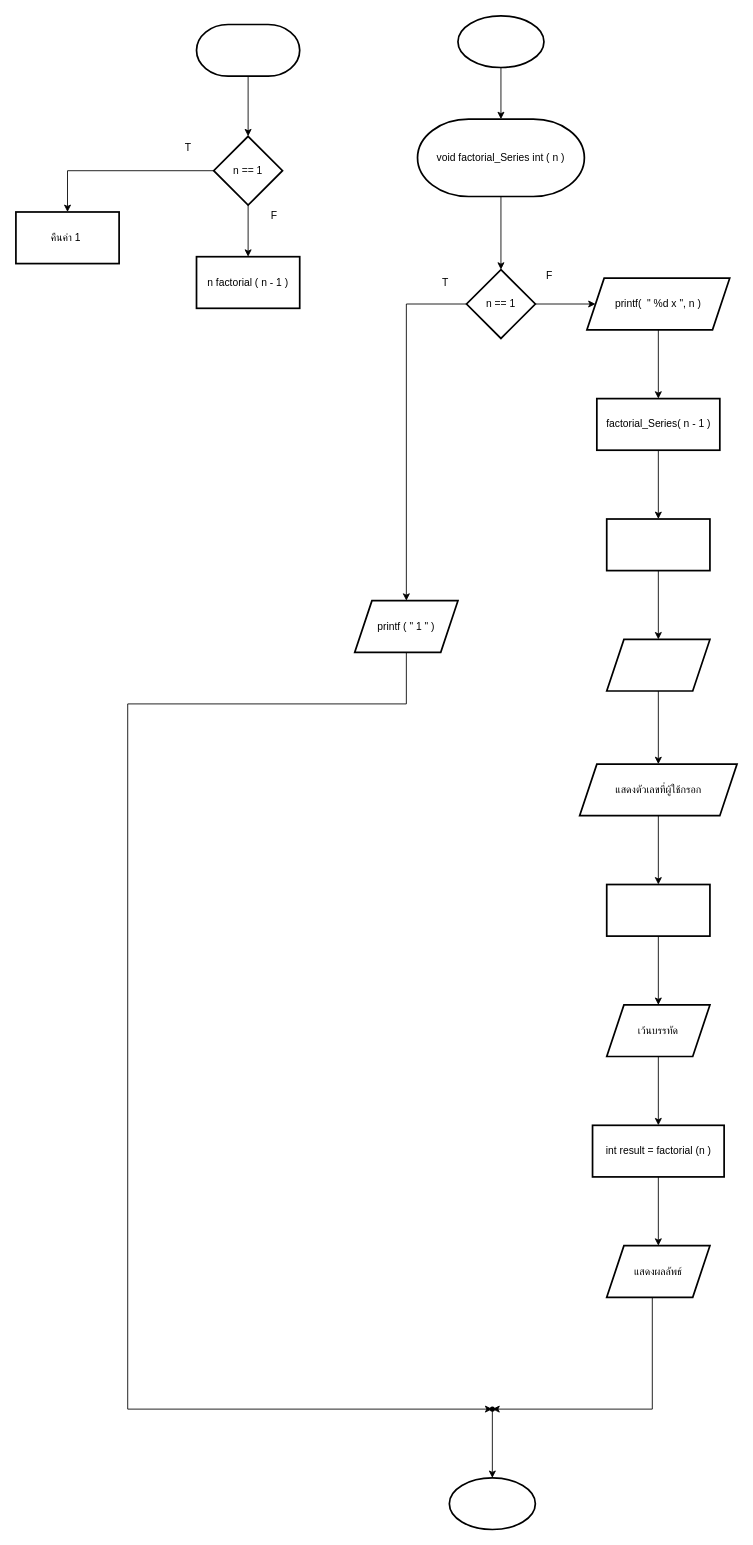
The diagram is 753 pixels wide and 1545 high, and some of its shapes have lost their labels. The shapes that lost their labels are listed below. From the top down, each one's box as (x1, y1, x2, y2) in pixels, then its label:
(195, 23, 300, 77): int factorial ( int n )
(457, 15, 544, 68): start
(605, 518, 710, 571): int n
(605, 638, 710, 691): รับค่าจากผู้ใช้
(605, 883, 710, 937): factorial_Series( n )
(448, 1477, 536, 1530): end
